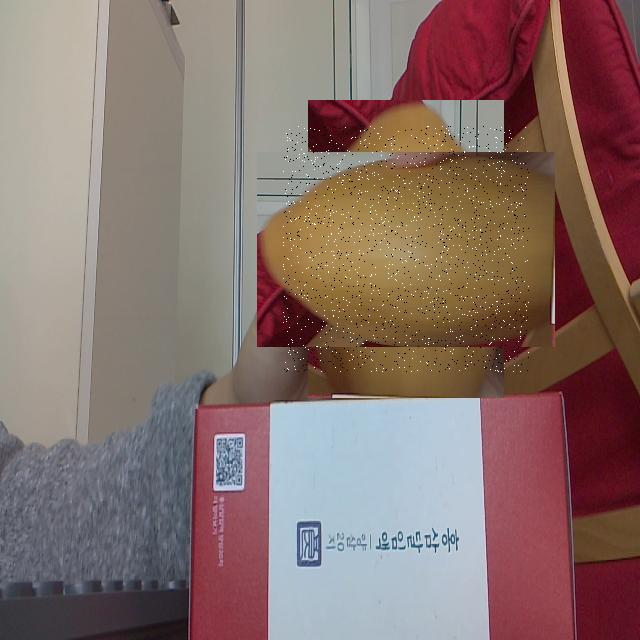pear: (283, 126, 529, 372)
